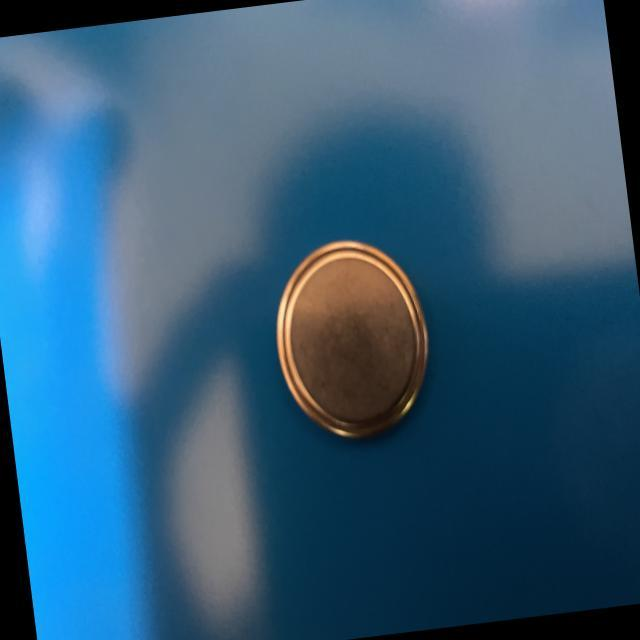COIN: (262, 230, 440, 453)
